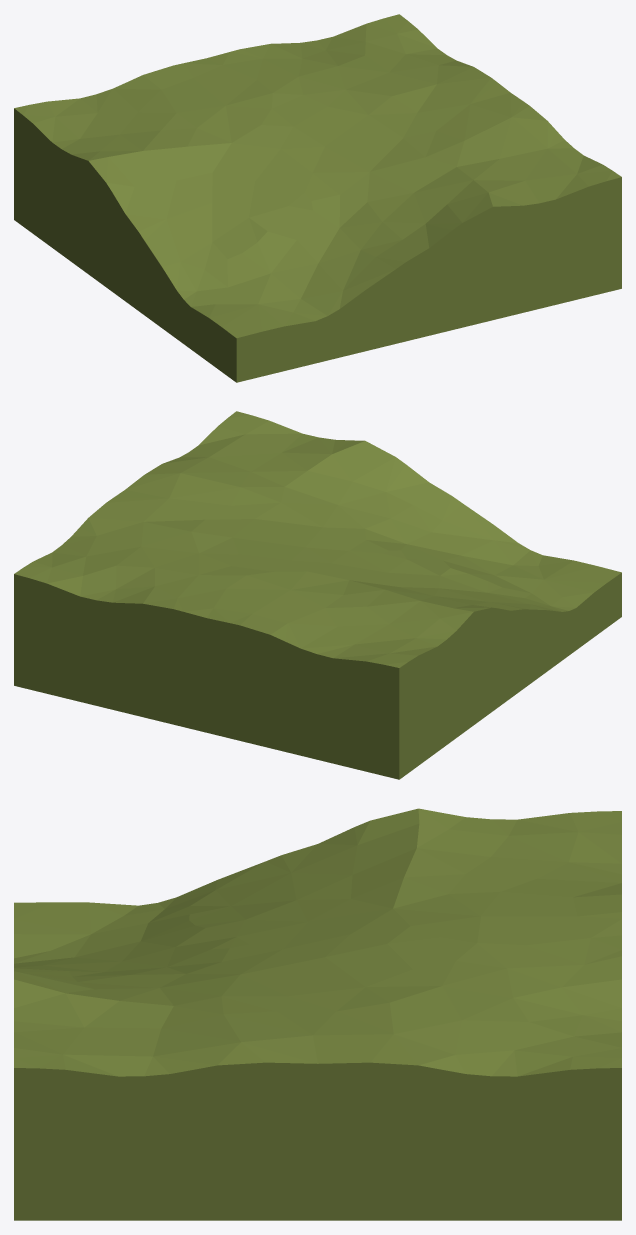
Rendered from Terrian_Grass_HillDip-01.fbx.
3 views of the same model, one above another, from view 1: azimuth 30°, elevation 25°; view 2: azimuth 150°, elevation 25°; view 3: azimuth 270°, elevation 25° (orthographic). The views are drawn at different scales.
Parts seen in each view (by area): view 1: Terrian_Grass_HillDip-01; view 2: Terrian_Grass_HillDip-01; view 3: Terrian_Grass_HillDip-01.
Boxes of the visible parts, x1,y1,x2,y2 form: Terrian_Grass_HillDip-01: (14, 14, 621, 382); Terrian_Grass_HillDip-01: (14, 411, 621, 779); Terrian_Grass_HillDip-01: (14, 808, 621, 1220).
Size of the model in its own units: 3600 by 1046 by 3600.
Materials: 1 (1 with a texture image).
